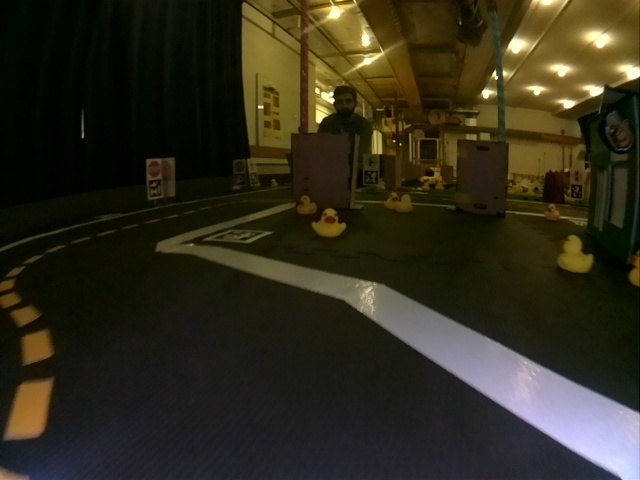Duckie: (558, 236, 592, 272), (312, 209, 345, 236), (297, 195, 314, 213), (629, 253, 638, 286), (397, 195, 413, 211), (545, 204, 559, 220), (385, 192, 397, 208), (269, 178, 279, 187), (437, 184, 445, 191)
Intersection sign: (363, 154, 377, 168)
QR code: (204, 229, 273, 241), (147, 179, 163, 196), (570, 184, 584, 198), (364, 170, 377, 184), (236, 172, 245, 184)
Signal sign: (571, 169, 583, 184)
Stop sign: (149, 160, 162, 172)
